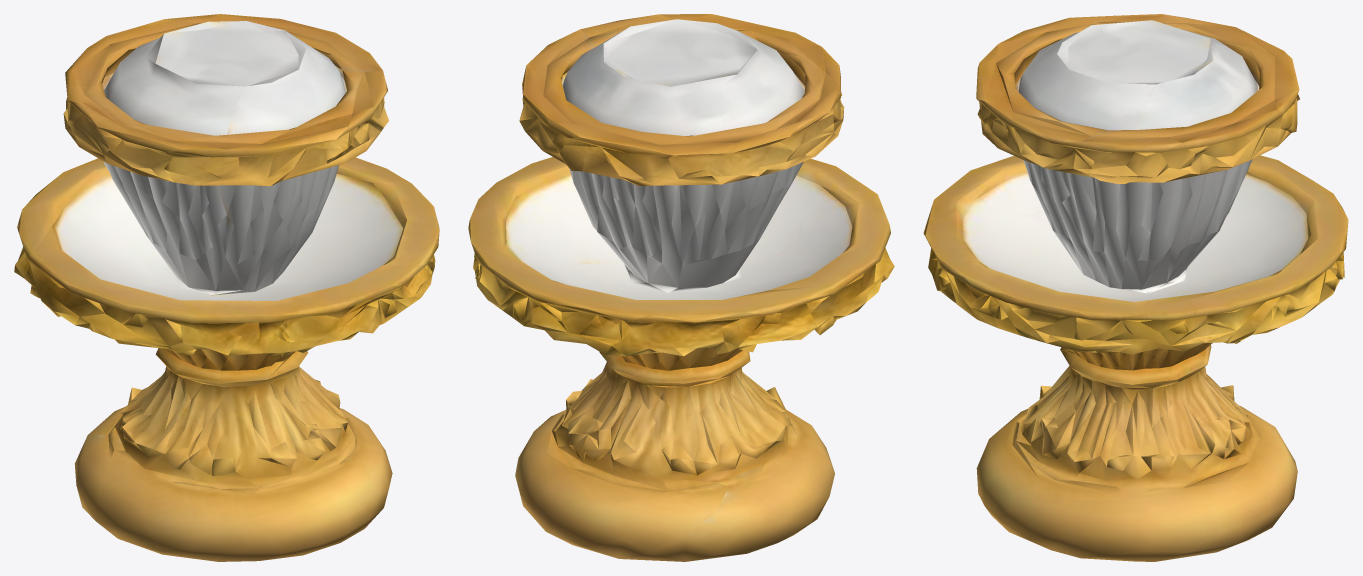
File: m2GemPedestal.glb
The picture shows the model from 3 angles, left to right: view 1: azimuth 30°, elevation 25°; view 2: azimuth 150°, elevation 25°; view 3: azimuth 270°, elevation 25°; orthographic projection.
Parts seen in each view (by area): view 1: model; view 2: model; view 3: model.
Part boxes in pixels (bbox=[...]): model: bbox=[14, 14, 439, 561]; model: bbox=[468, 14, 894, 561]; model: bbox=[923, 14, 1348, 561].
Bounding box in the file's own units: 1.59 × 1.89 × 1.61.
Materials: 1 (1 with a texture image).
